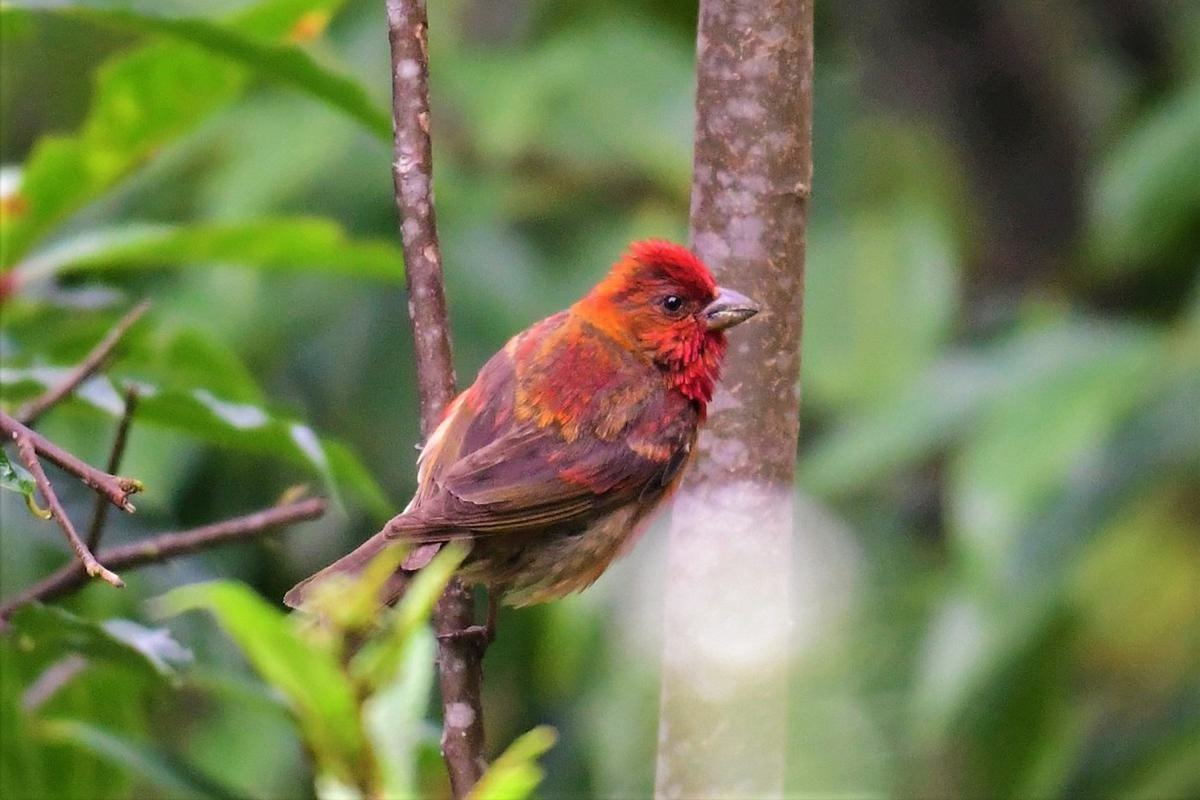rosefinch: (393, 234, 773, 627)
